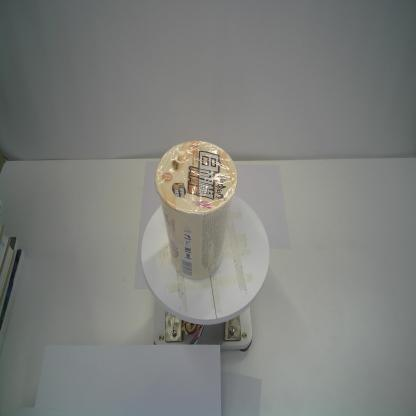Instant Noodles: (154, 138, 237, 281)
